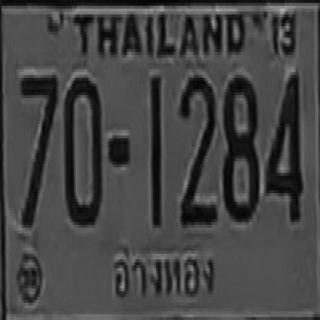N00: (64, 75, 102, 225)
N01: (150, 74, 161, 226)
N02: (178, 74, 216, 224)
N04: (265, 69, 301, 219)
N07: (19, 72, 58, 225)
N08: (222, 73, 257, 218)
P02: (107, 241, 222, 307)
